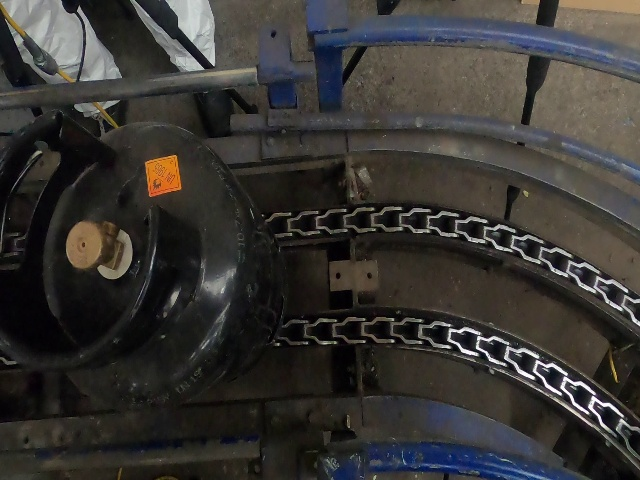gas_bottle: (4, 6, 640, 476)
